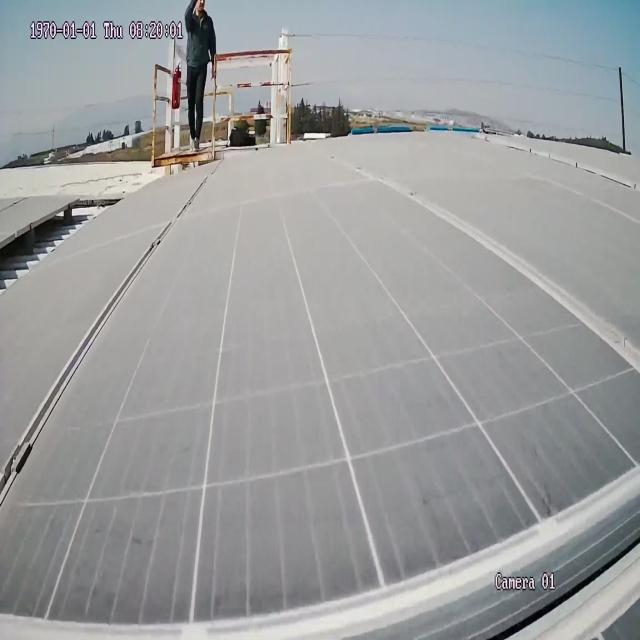interior panel: (0, 451, 640, 640), (0, 174, 212, 506), (384, 181, 640, 374)
outher panel: (0, 193, 134, 300)
